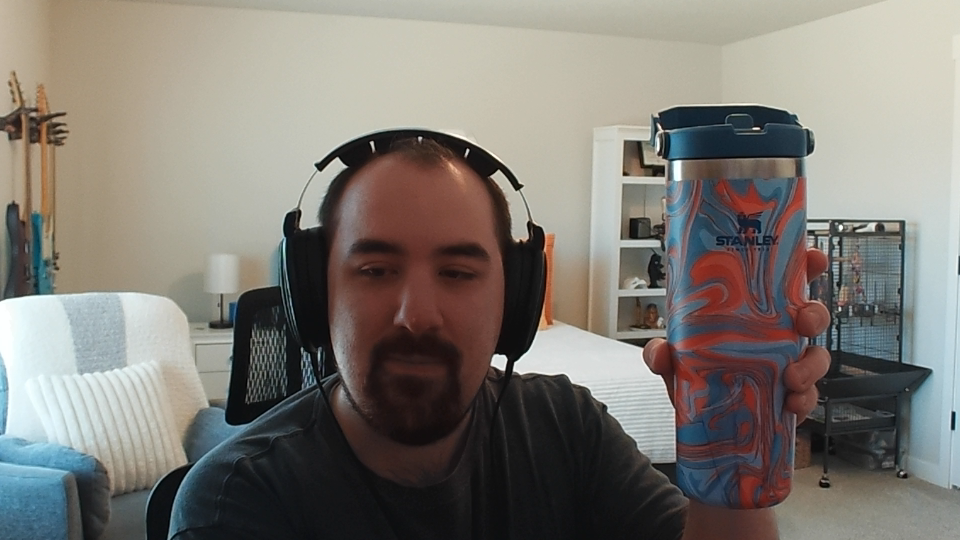StanleyCup: (649, 104, 816, 510)
